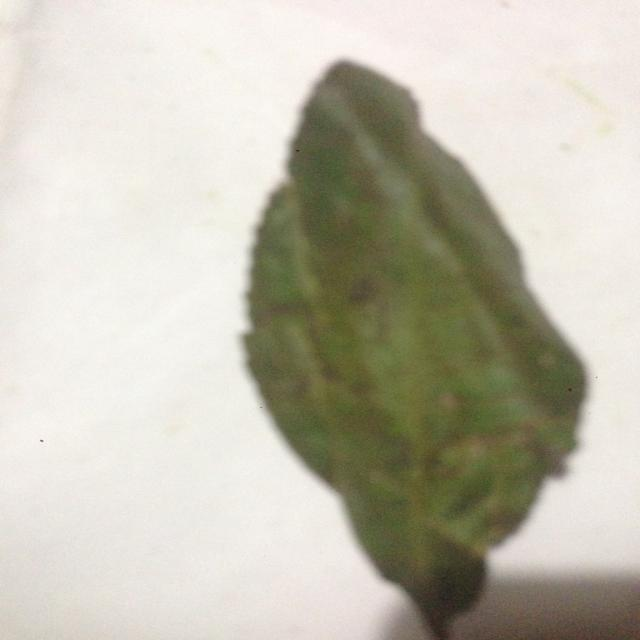Red Leaf Spot: (232, 53, 564, 640)
